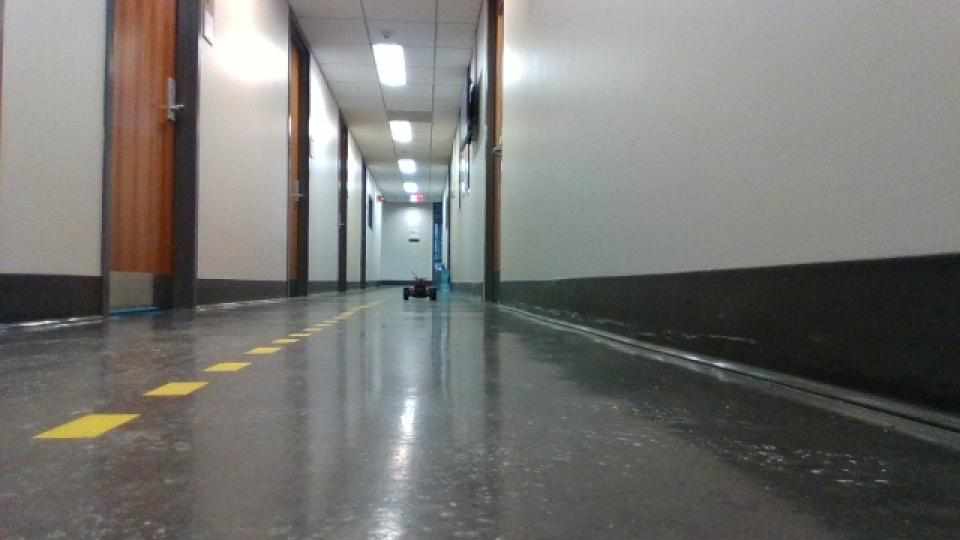car: (399, 268, 439, 304)
